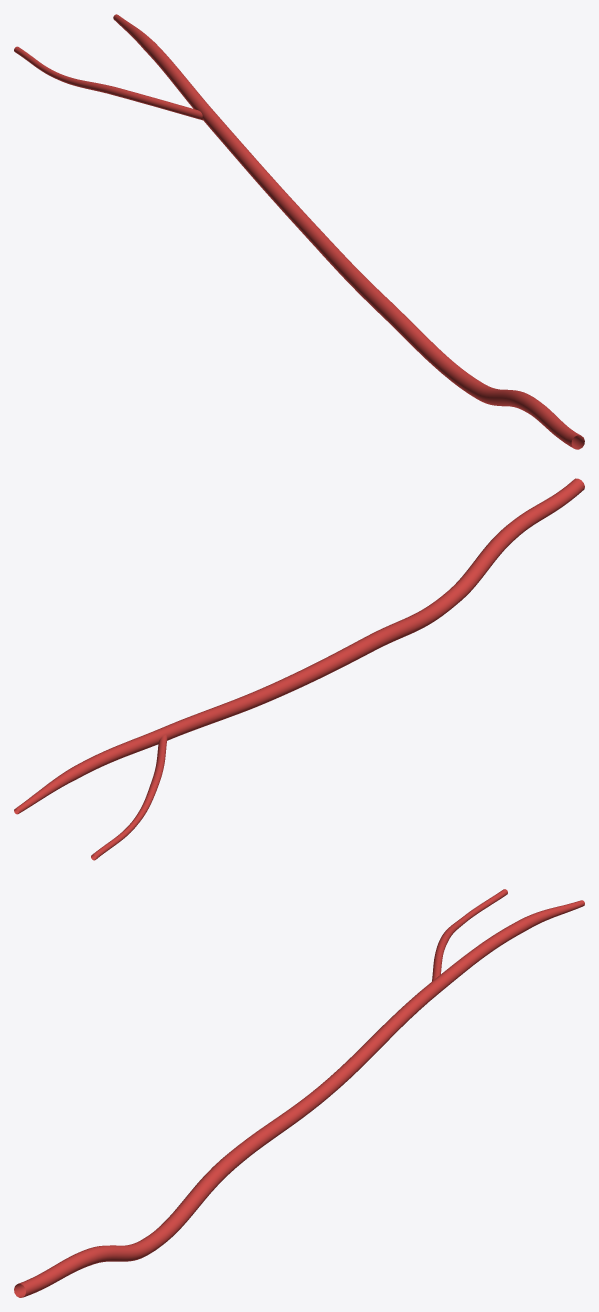
3 renders of one model, top to bottom at view 1: azimuth 30°, elevation 25°; view 2: azimuth 150°, elevation 25°; view 3: azimuth 330°, elevation 25°, orthographic. The views are drawn at different scales.
Parts seen in each view (by area): view 1: 左侧腹壁上动脉; view 2: 左侧腹壁上动脉; view 3: 左侧腹壁上动脉.
Boxes of the visible parts, bbox=[...] form: 左侧腹壁上动脉: bbox=[14, 14, 584, 449]; 左侧腹壁上动脉: bbox=[14, 478, 584, 860]; 左侧腹壁上动脉: bbox=[14, 889, 584, 1297].
Size of the model in its own units: 0.0249 by 0.0222 by 0.2388.
